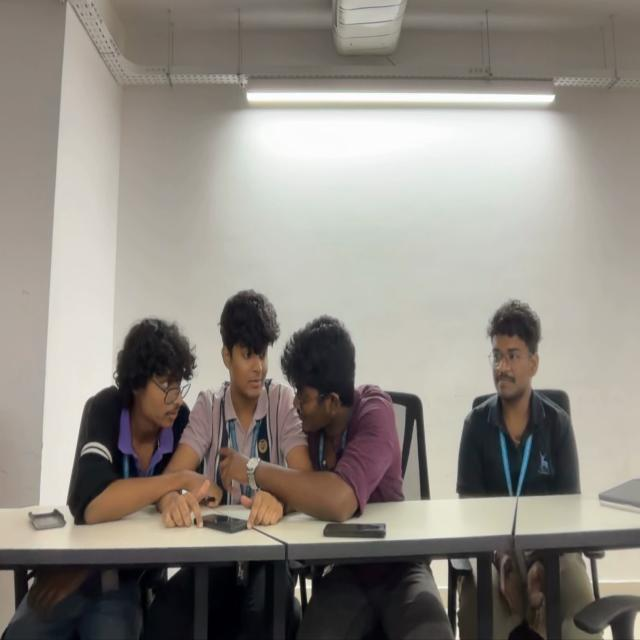Isolated: (453, 302, 580, 495)
socializing: (70, 288, 402, 528)
